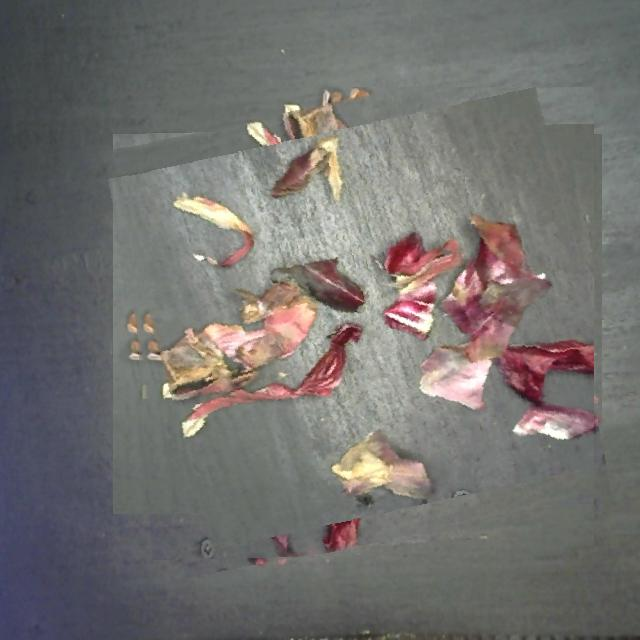biodegradable: (121, 87, 594, 560)
